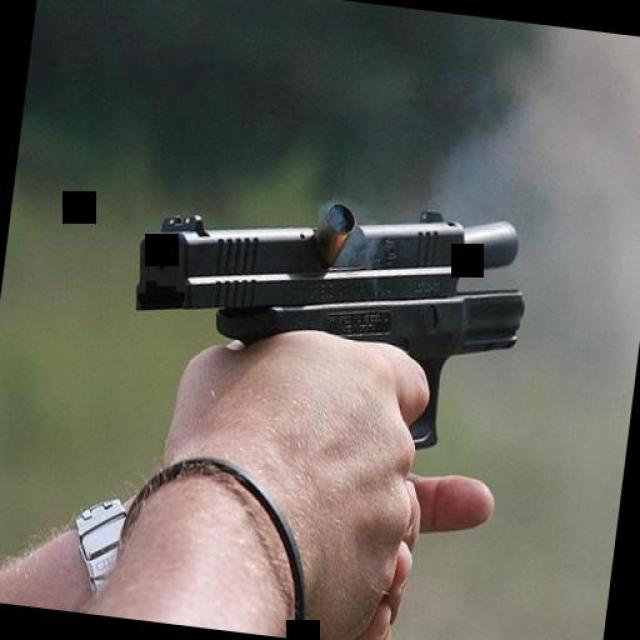gun: (109, 172, 536, 468)
